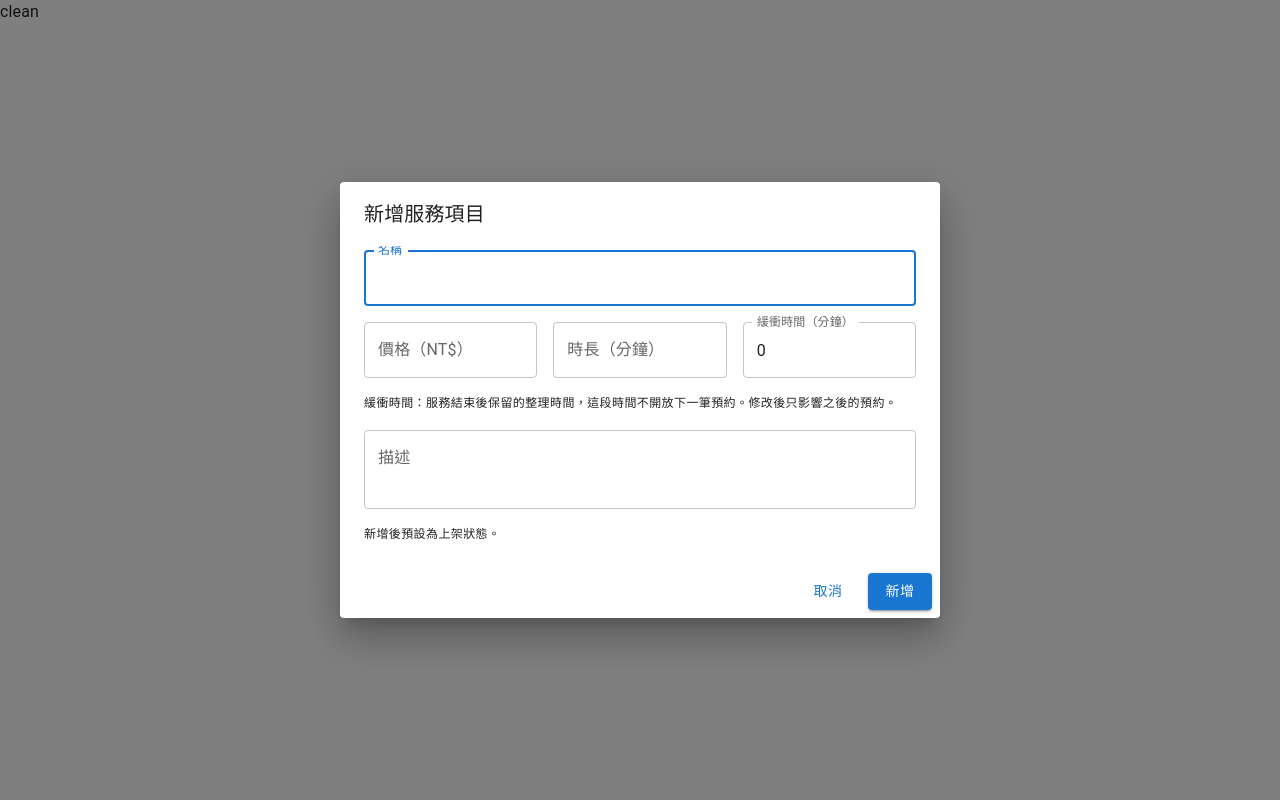
Test: ServiceFormDialog 未儲存變更（TASK-083，key: service-form） › dirty 判定 › 新增：空白預設值不算變更；填了任一欄位才算；清掉回到乾淨
Check: the text with test id "probe" reads "clean", box [0, 2, 39, 21]
Type "新服務" into the field labelled "名稱".
click(640, 278); type("新服務")  # box [364, 250, 916, 306]
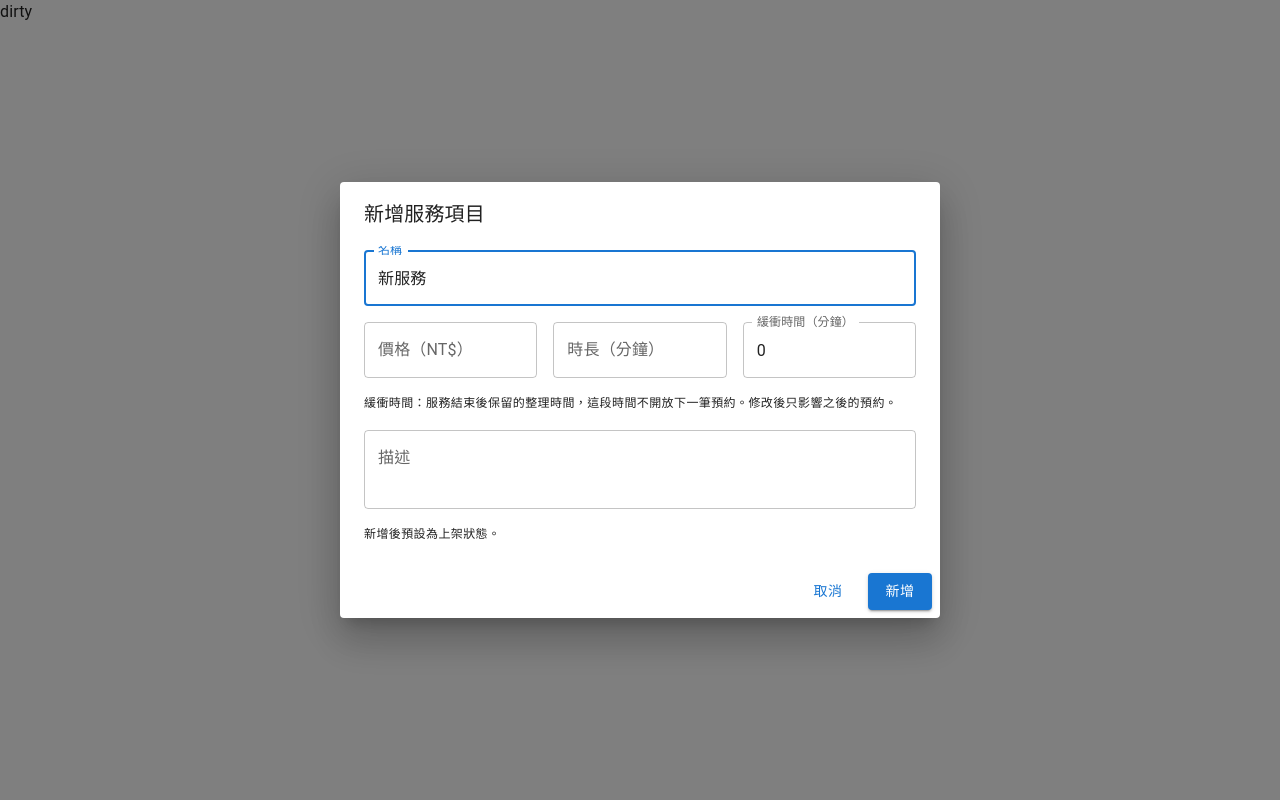
Check: the text with test id "probe" reads "dirty", box [0, 2, 32, 21]
Clear the field labelled "名稱" at (640, 278), box [364, 250, 916, 306]
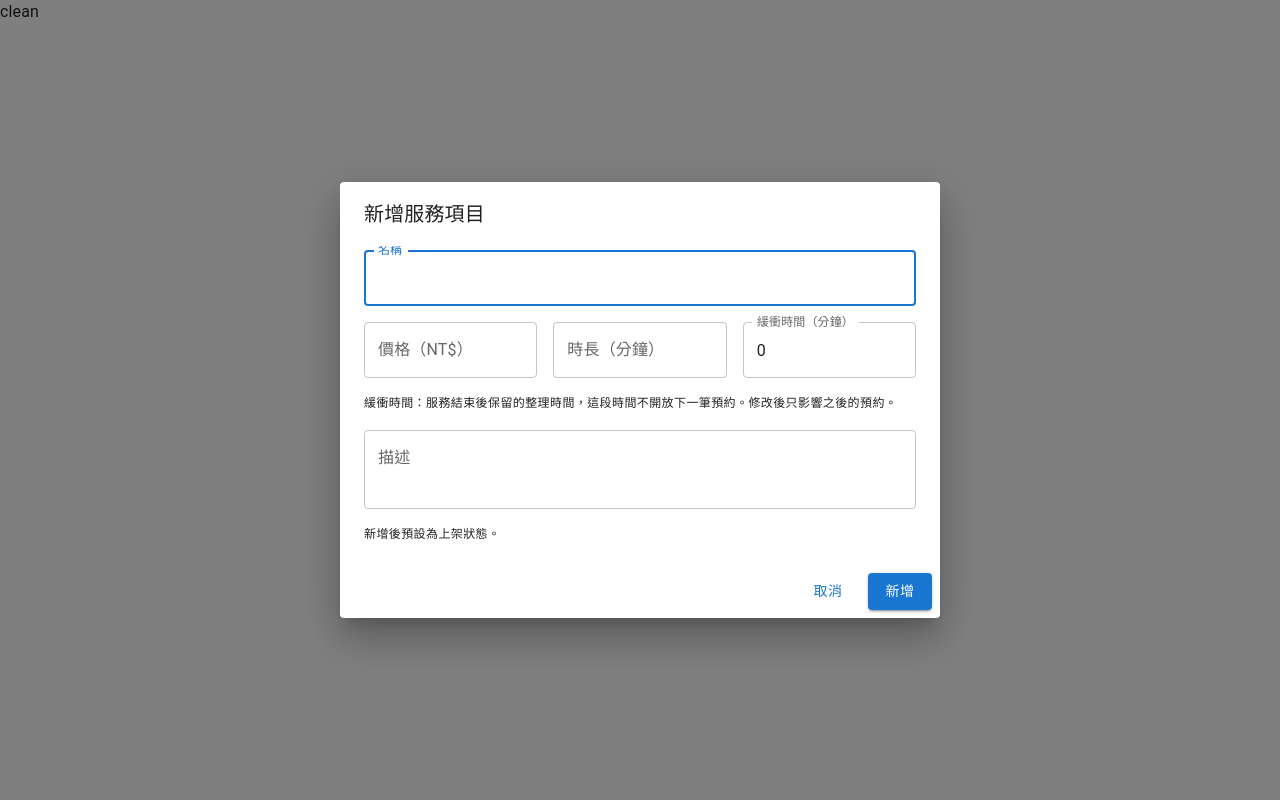
Check: the text with test id "probe" reads "clean", box [0, 2, 39, 21]
